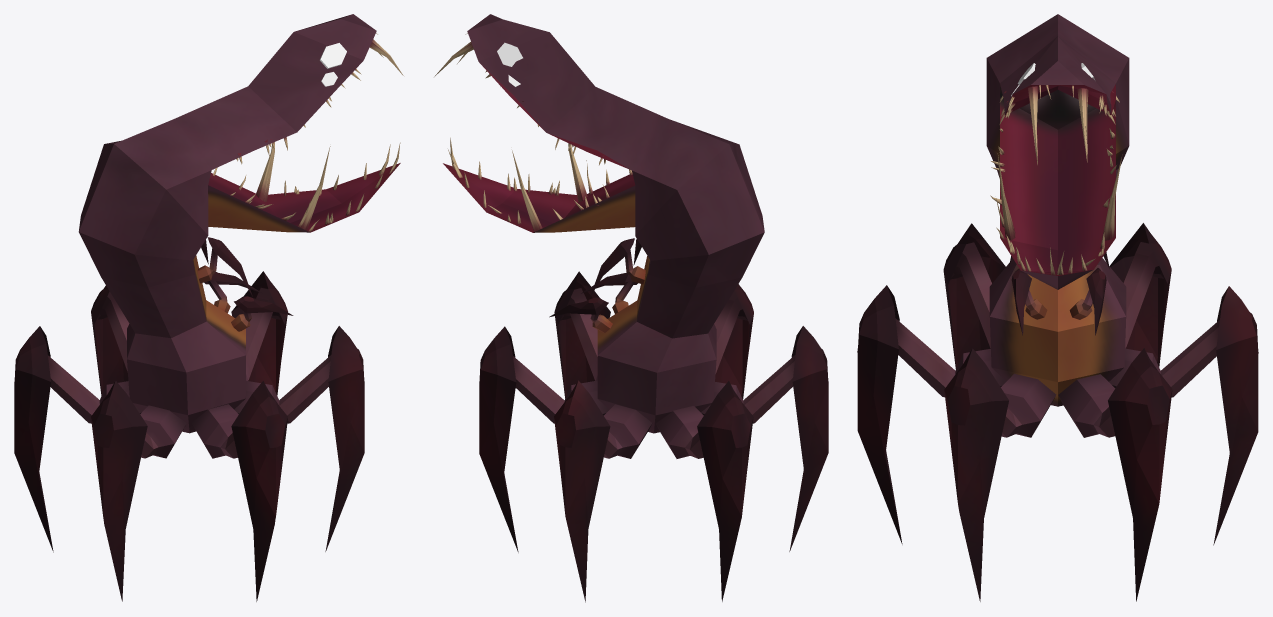
Rendered from aranhonovocorte.fbx.
3 views of the same model, side by side, from view 1: azimuth 30°, elevation 25°; view 2: azimuth 150°, elevation 25°; view 3: azimuth 270°, elevation 25° (orthographic). The views are drawn at different scales.
Visible parts, largest first — view 1: Cylinder; view 2: Cylinder; view 3: Cylinder.
Boxes of the visible parts, x1,y1,x2,y2 form: Cylinder: (14, 14, 400, 601); Cylinder: (443, 14, 828, 602); Cylinder: (857, 14, 1258, 601).
Size of the model in its own units: 226 by 310 by 198.
62 materials, 62 textured.
